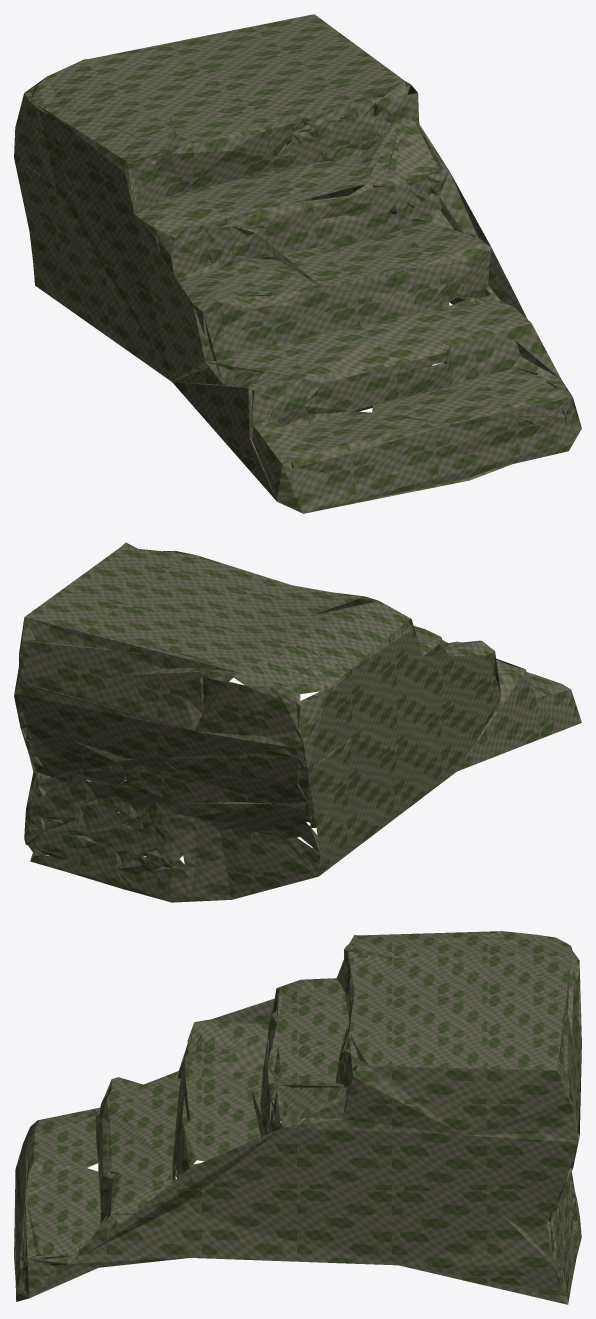
The model's file is stone_steps_reduced.glb.
The picture shows the model from 3 angles, top to bottom: view 1: azimuth 30°, elevation 25°; view 2: azimuth 150°, elevation 25°; view 3: azimuth 270°, elevation 25°; orthographic projection.
Parts seen in each view (by area): view 1: StoneOnEveryFace; view 2: StoneOnEveryFace; view 3: StoneOnEveryFace.
Part boxes in pixels (x1,y1,x2,y2): StoneOnEveryFace: (14, 14, 581, 513); StoneOnEveryFace: (14, 542, 581, 902); StoneOnEveryFace: (14, 931, 581, 1304).
Bounding box in the file's own units: 1.24 × 0.9525 × 1.99.
1 material, 1 textured.
